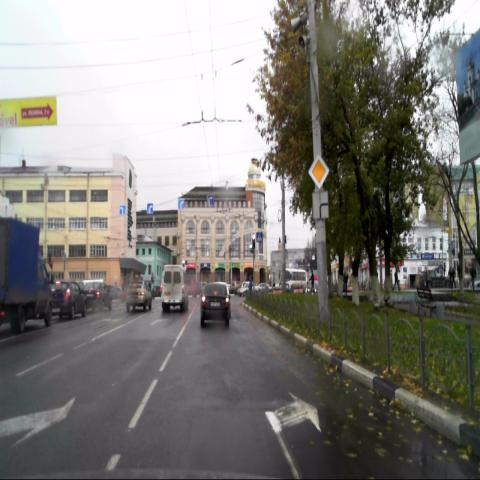8_13: (312, 192, 329, 220)
